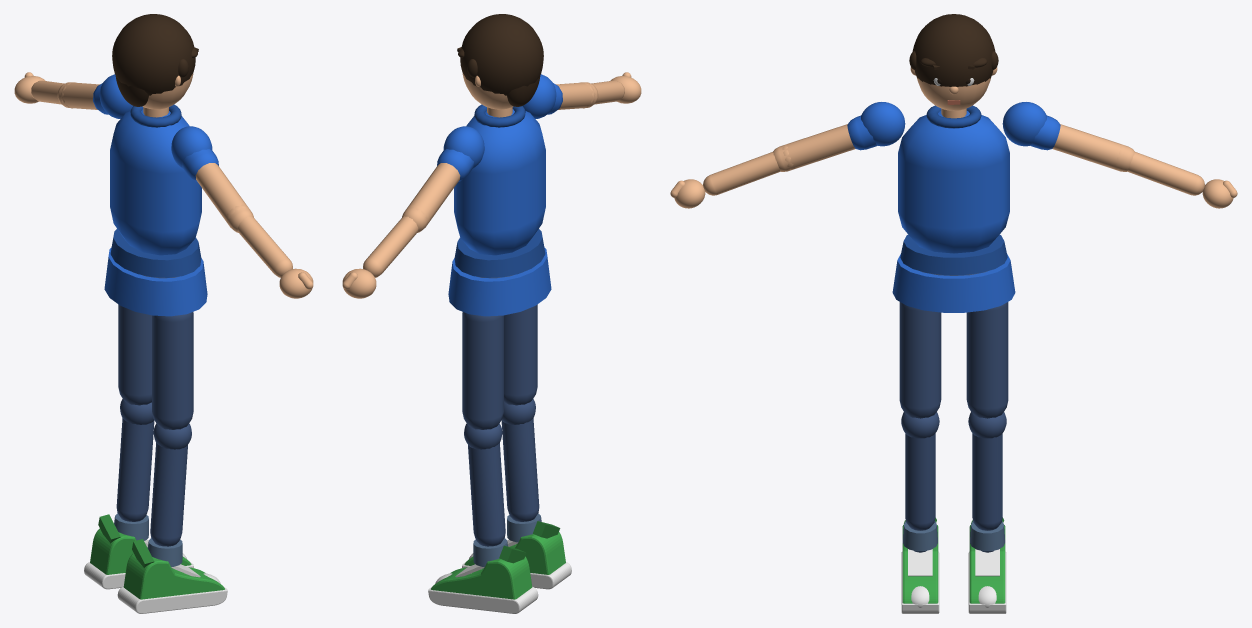
The model's file is teen.glb.
The picture shows the model from 3 angles, left to right: view 1: azimuth 30°, elevation 25°; view 2: azimuth 150°, elevation 25°; view 3: azimuth 270°, elevation 25°; orthographic projection.
Size of the model in its own units: 0.2667 by 1.59 by 1.42.
